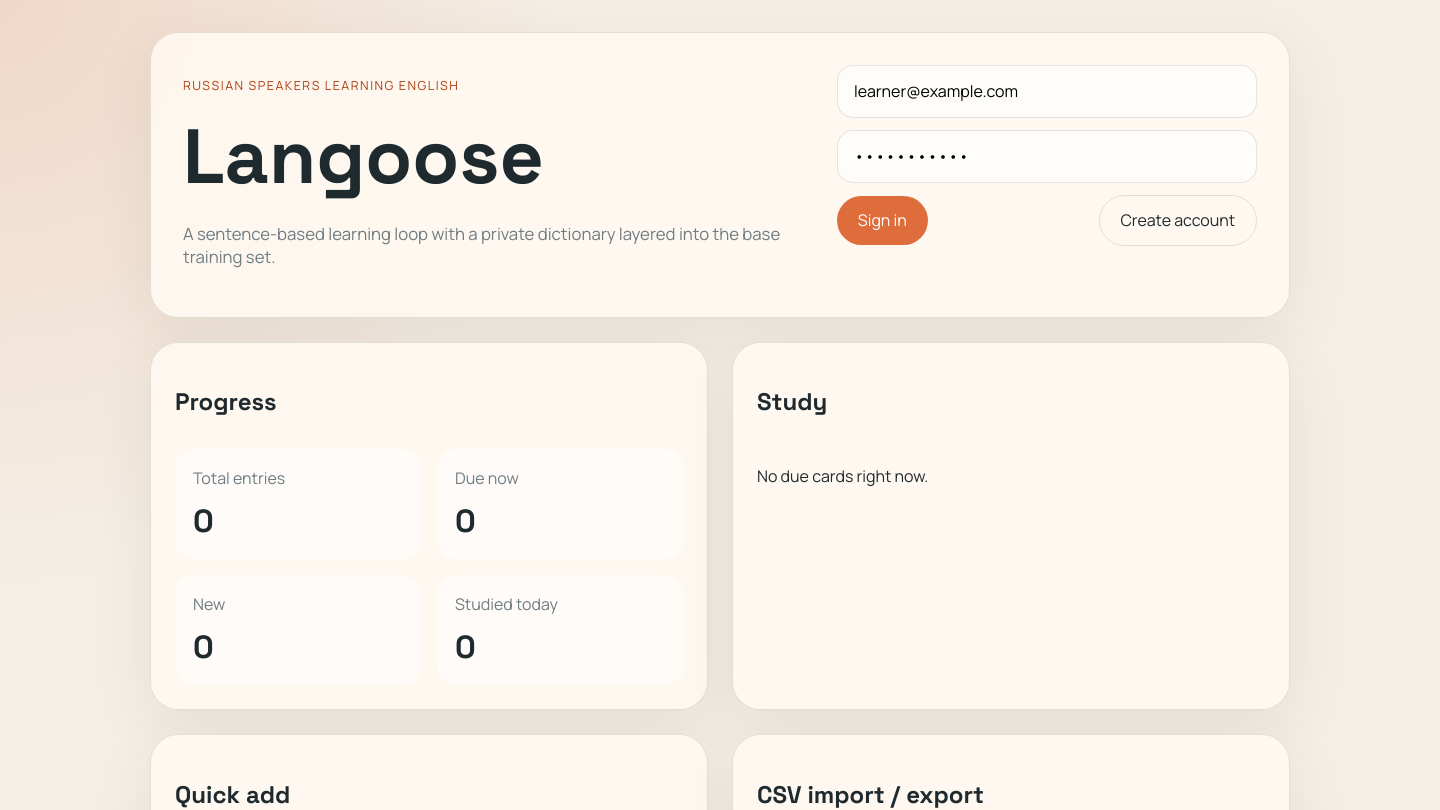
App auth flow › hydrates the authenticated UI after sign in
Click the button "Sign in". click: coordinates (882, 220)
box: 837,196 -> 928,245
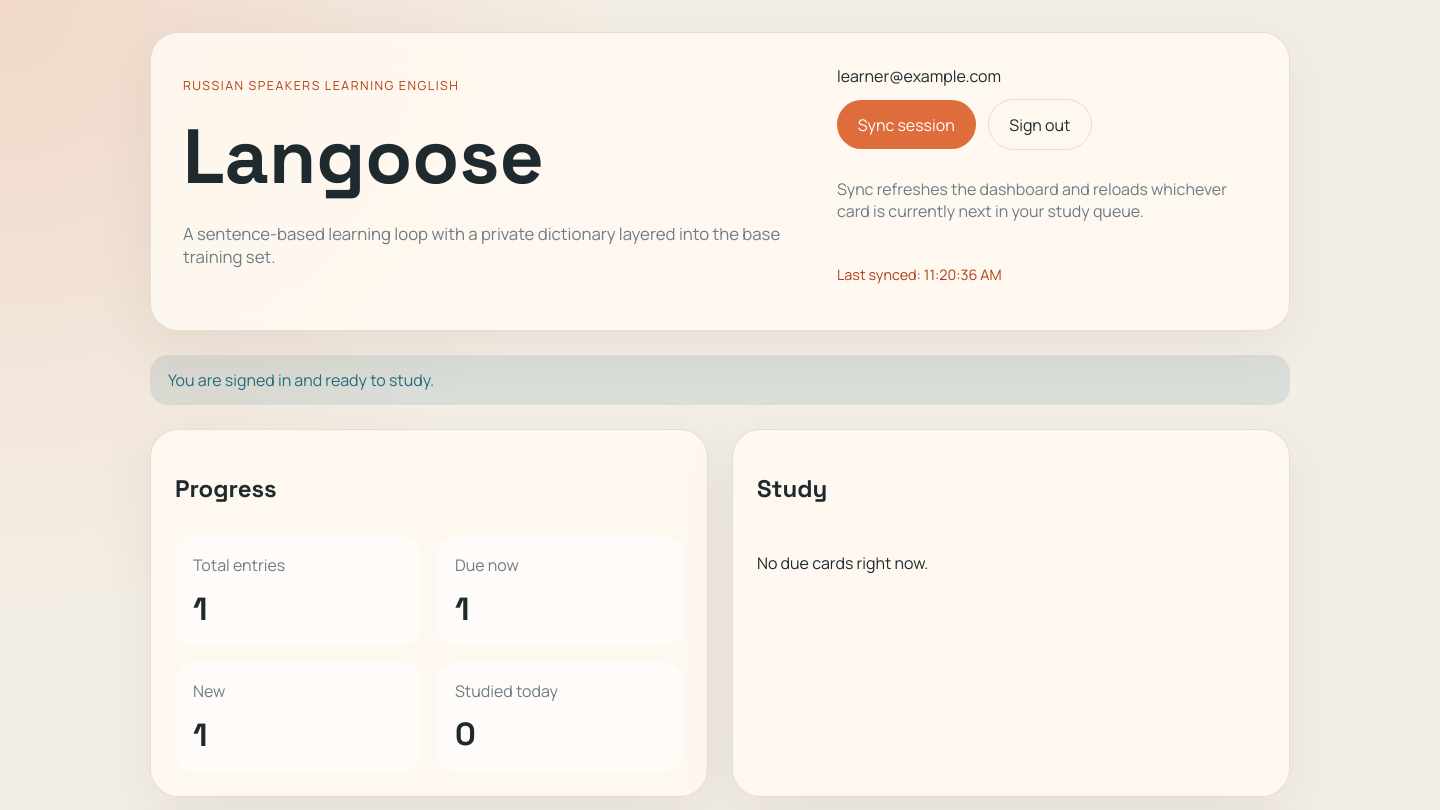
expect the text "learner@example.com" is shown: met, box 837,65 -> 1001,87
expect the text "You are signed in and ready to study." is shown: met, box 150,355 -> 1290,405
